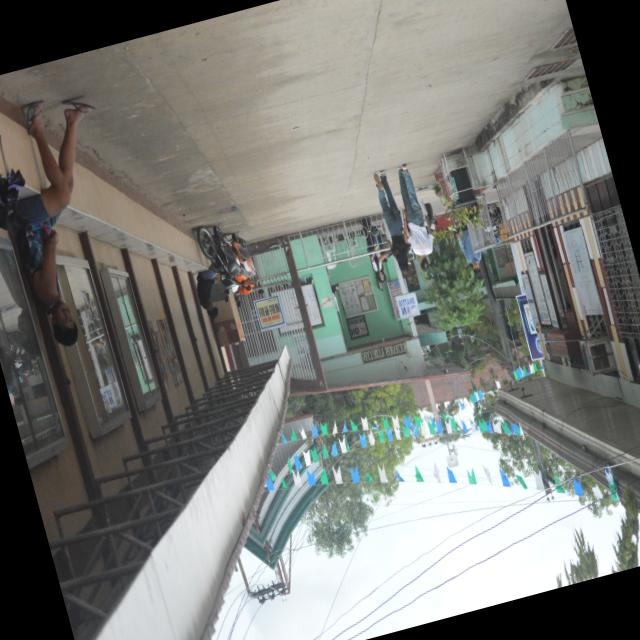person: (13, 100, 94, 345), (398, 164, 433, 270), (374, 170, 409, 273), (361, 216, 387, 282), (457, 224, 481, 274), (197, 269, 220, 317)
